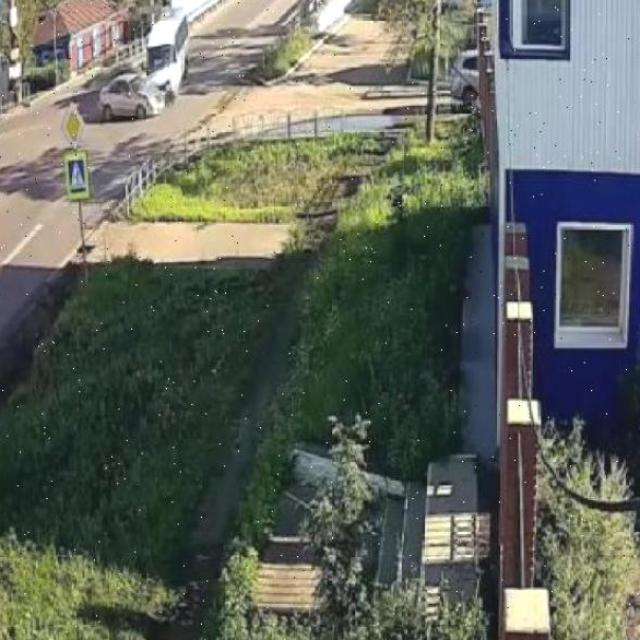accident: (86, 7, 202, 125)
